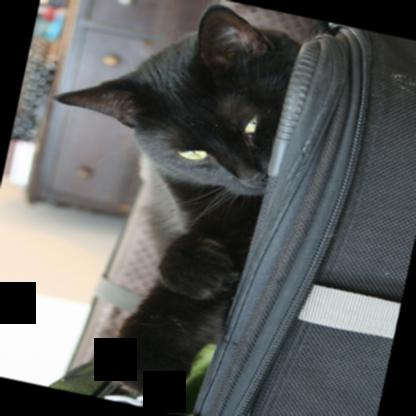suitcase: (191, 22, 416, 416)
